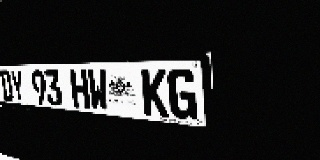3: (44, 70, 63, 106)
9: (31, 70, 48, 105)
D: (0, 70, 14, 101)
G: (167, 69, 197, 121)
H: (70, 69, 90, 109)
K: (141, 69, 169, 118)
W: (87, 69, 109, 111)
Y: (10, 70, 25, 103)
